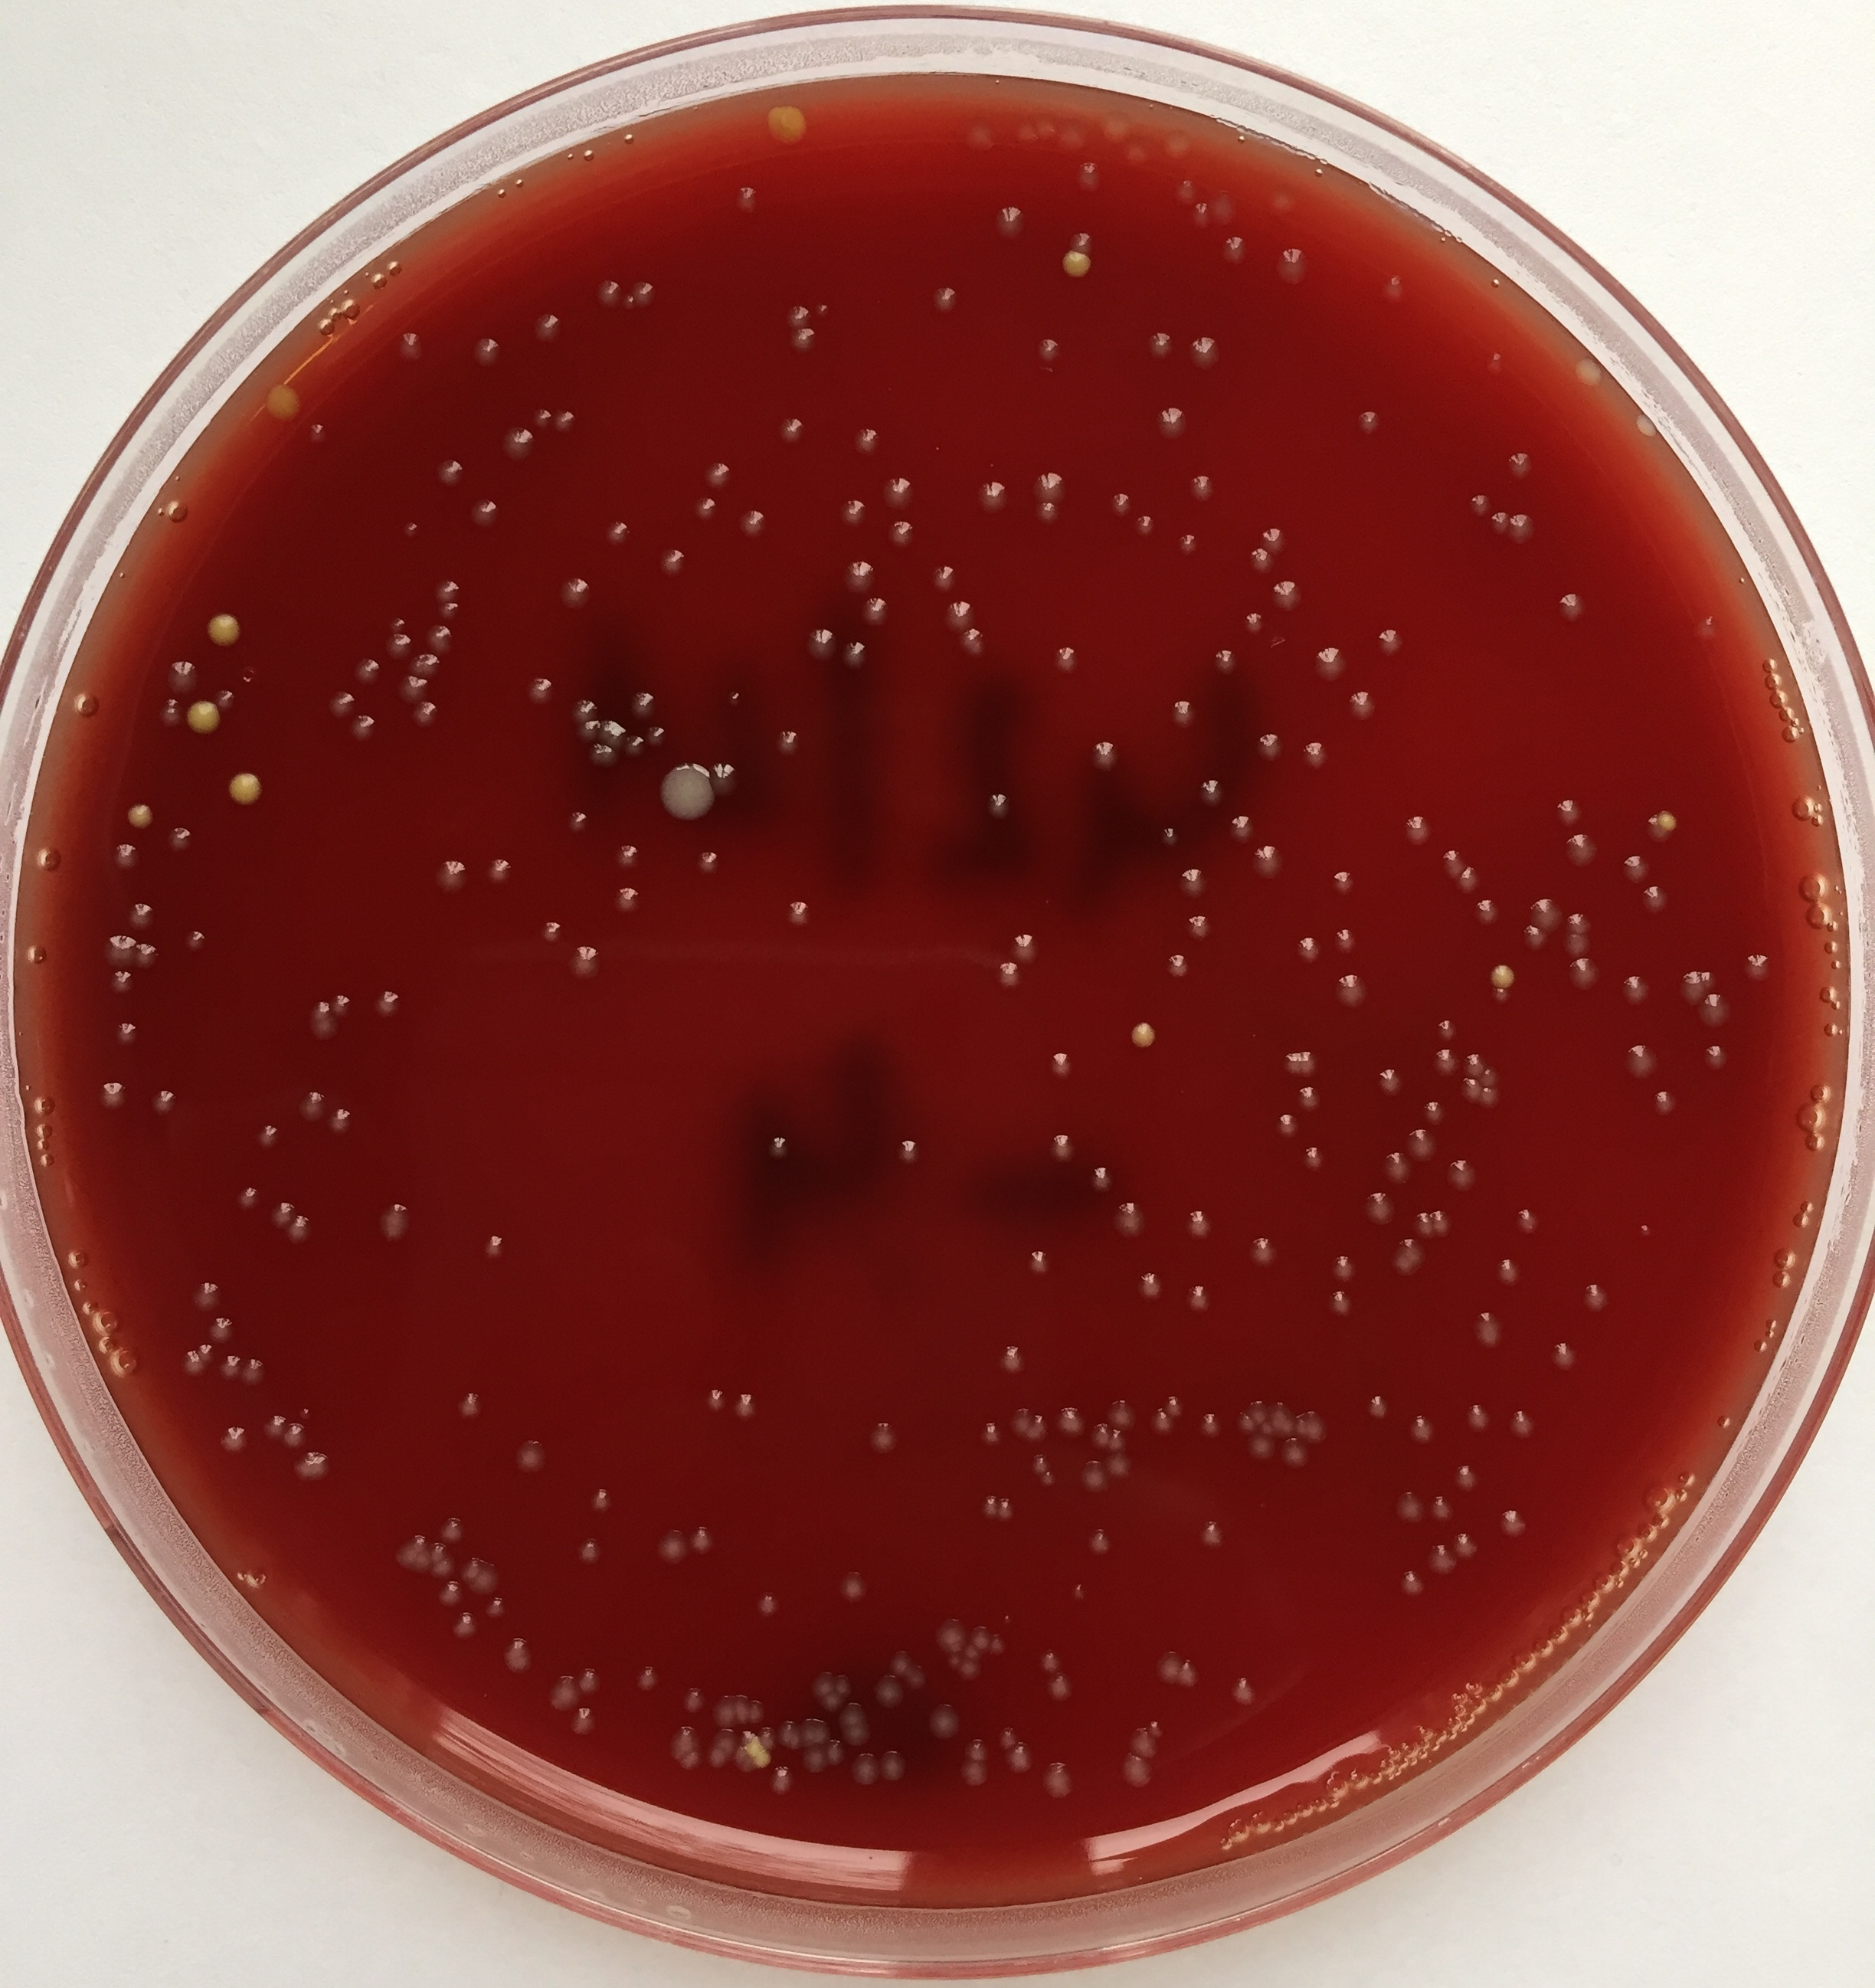sp06: (375, 1191, 416, 1257), (559, 938, 604, 994), (1323, 969, 1375, 1017), (508, 1426, 555, 1475), (1010, 1232, 1059, 1278), (1151, 397, 1195, 446), (768, 716, 812, 763), (983, 1338, 1031, 1382), (839, 634, 879, 686), (557, 793, 597, 844), (1049, 636, 1087, 689), (1251, 835, 1286, 894), (495, 423, 539, 469), (693, 830, 724, 894), (546, 575, 603, 610), (867, 1413, 906, 1465), (1295, 733, 1334, 784), (1008, 1403, 1050, 1449), (664, 1722, 700, 1777), (1108, 1197, 1147, 1246), (293, 1450, 344, 1487), (876, 471, 918, 515), (1366, 622, 1410, 664), (1345, 684, 1387, 728), (989, 197, 1031, 241), (1387, 1235, 1427, 1281), (1041, 1757, 1078, 1806), (844, 419, 886, 462), (1172, 862, 1214, 904), (430, 857, 474, 897), (1551, 587, 1595, 627), (1309, 638, 1350, 682), (1560, 955, 1604, 996), (1241, 1232, 1285, 1272), (652, 545, 698, 583), (1038, 1038, 1077, 1084), (1024, 502, 1077, 536), (1561, 828, 1602, 871), (1464, 1306, 1505, 1348), (1027, 464, 1071, 502), (1269, 575, 1308, 619), (1071, 152, 1110, 196), (1186, 330, 1223, 375), (835, 1701, 872, 1747), (1276, 243, 1309, 293), (1248, 724, 1288, 765), (1179, 902, 1219, 943), (444, 1383, 486, 1422), (1043, 1124, 1082, 1167), (943, 592, 985, 631), (1642, 1087, 1685, 1126), (497, 1636, 536, 1678), (388, 1535, 430, 1574), (809, 1671, 853, 1708), (689, 1510, 721, 1561), (650, 1521, 686, 1567), (927, 1697, 962, 1743), (710, 751, 744, 798), (967, 476, 1008, 515), (1739, 946, 1780, 985), (1526, 888, 1565, 929), (731, 182, 770, 222), (927, 282, 967, 321), (800, 620, 837, 663), (737, 502, 774, 545), (730, 1382, 767, 1424), (1577, 1272, 1614, 1315), (211, 1421, 248, 1463), (881, 516, 925, 552), (760, 1131, 804, 1167), (300, 999, 333, 1045), (1170, 520, 1202, 567), (1163, 686, 1195, 733), (707, 1725, 738, 1773), (1086, 735, 1124, 774), (1619, 1038, 1658, 1077), (1494, 1505, 1533, 1544), (1216, 234, 1255, 273), (527, 310, 566, 349), (1355, 1188, 1396, 1225), (1084, 1523, 1119, 1565), (774, 412, 811, 451), (93, 1077, 132, 1114), (1695, 989, 1734, 1026), (1130, 1267, 1167, 1306), (467, 333, 506, 370), (960, 116, 997, 155), (467, 497, 508, 532), (164, 657, 199, 698), (1329, 918, 1364, 959), (1182, 1205, 1218, 1246), (1441, 1154, 1477, 1195), (1264, 187, 1299, 227), (834, 1567, 869, 1607), (874, 1669, 909, 1710), (465, 1554, 500, 1595), (285, 1209, 315, 1257), (580, 1479, 627, 1509), (1396, 807, 1429, 849), (1545, 791, 1588, 825), (1373, 1063, 1406, 1105), (1142, 328, 1175, 370), (1618, 968, 1649, 1012), (1161, 129, 1198, 166), (370, 980, 405, 1019), (478, 1225, 513, 1264), (1205, 642, 1244, 677), (834, 495, 867, 536), (1394, 1484, 1427, 1524), (428, 455, 471, 486), (1276, 1049, 1320, 1079), (1545, 1338, 1582, 1373), (1031, 335, 1066, 372), (1052, 1405, 1089, 1440), (980, 791, 1019, 825), (1512, 1200, 1545, 1239), (1227, 1671, 1260, 1710), (1505, 446, 1538, 485), (1292, 927, 1320, 973), (879, 1748, 908, 1794), (1424, 1539, 1454, 1581), (1064, 227, 1107, 257), (136, 936, 164, 980), (1191, 770, 1227, 805), (1117, 1754, 1152, 1789), (345, 714, 381, 749), (856, 594, 893, 627), (839, 557, 876, 590), (1227, 807, 1260, 844), (930, 1614, 964, 1651), (1237, 601, 1269, 640), (1045, 1671, 1077, 1710), (569, 1706, 601, 1745), (190, 1272, 222, 1311), (615, 881, 645, 922), (148, 1080, 178, 1121), (1013, 922, 1043, 962), (545, 1674, 585, 1704), (330, 1096, 358, 1139), (1378, 268, 1406, 310), (395, 513, 428, 548), (107, 835, 143, 869), (106, 971, 139, 1006), (102, 929, 136, 964), (291, 1084, 324, 1119), (959, 622, 992, 657), (927, 555, 960, 590), (1438, 839, 1471, 874), (1493, 1255, 1526, 1290), (1403, 1128, 1436, 1163), (1641, 883, 1672, 920), (1699, 1038, 1730, 1075), (1149, 1648, 1181, 1685), (1158, 950, 1197, 980), (1212, 185, 1242, 224), (157, 696, 185, 737), (1482, 342, 1510, 382), (782, 897, 816, 931), (481, 855, 515, 888), (1621, 849, 1655, 883), (1516, 922, 1549, 955), (1278, 1440, 1311, 1473), (1295, 1408, 1329, 1442), (395, 330, 428, 363), (691, 490, 723, 525), (227, 1179, 259, 1214), (573, 1539, 608, 1570), (1149, 818, 1184, 849), (1420, 1096, 1452, 1131), (1452, 1458, 1482, 1495), (756, 1581, 786, 1618), (1006, 1741, 1036, 1778), (849, 1748, 879, 1785), (523, 679, 562, 707), (1126, 511, 1165, 539), (1301, 1140, 1329, 1179), (1452, 1524, 1479, 1565), (164, 821, 196, 855), (176, 924, 210, 955), (252, 1114, 284, 1147), (1323, 1285, 1355, 1318), (1184, 1281, 1216, 1315), (1507, 1408, 1540, 1440), (1408, 1412, 1441, 1443), (1103, 1396, 1137, 1428), (1690, 608, 1723, 640), (701, 460, 737, 490), (125, 897, 155, 932), (886, 1131, 922, 1161), (1470, 897, 1500, 932), (1382, 1149, 1412, 1184), (1510, 511, 1540, 546), (1101, 109, 1131, 145), (627, 687, 663, 717), (449, 1609, 479, 1644), (428, 622, 458, 657), (1427, 1049, 1456, 1086), (784, 328, 821, 356), (990, 957, 1024, 987), (1353, 400, 1383, 434), (1260, 518, 1290, 552), (1325, 1251, 1359, 1281), (1198, 1517, 1228, 1551), (430, 575, 463, 605), (409, 650, 442, 680), (411, 703, 444, 733), (1271, 1396, 1295, 1436), (243, 1354, 268, 1394), (957, 1762, 992, 1791), (802, 1713, 830, 1748), (351, 654, 379, 689), (601, 515, 633, 545), (111, 1019, 141, 1050), (1330, 869, 1362, 899), (1561, 929, 1593, 959), (1466, 1401, 1496, 1433), (1123, 141, 1152, 173), (301, 416, 330, 449), (1431, 1012, 1459, 1045), (1396, 1563, 1424, 1597), (645, 721, 673, 754), (633, 1662, 661, 1695), (270, 1190, 296, 1225), (1672, 968, 1699, 1003), (978, 1415, 1004, 1450), (210, 1313, 236, 1348), (530, 393, 555, 430), (596, 277, 620, 314), (578, 1660, 603, 1697), (1269, 1109, 1299, 1139), (1107, 1458, 1137, 1487), (324, 689, 354, 719), (1295, 1086, 1327, 1114), (1427, 1495, 1459, 1523), (259, 1410, 287, 1442), (398, 675, 430, 703), (559, 400, 582, 439), (537, 916, 564, 950), (1128, 1725, 1154, 1759), (1574, 354, 1600, 388), (485, 1590, 511, 1623), (1561, 909, 1597, 934), (583, 746, 619, 770), (1080, 1459, 1105, 1495), (615, 842, 645, 871), (1186, 471, 1216, 499), (1459, 867, 1487, 897), (1087, 1161, 1114, 1193), (1366, 1391, 1392, 1422), (768, 1766, 795, 1798), (441, 1512, 467, 1544), (217, 1352, 243, 1383), (328, 980, 349, 1019), (1433, 1204, 1456, 1239), (633, 275, 656, 310), (211, 686, 240, 714), (1101, 488, 1131, 515), (1246, 545, 1272, 575), (1632, 411, 1658, 441), (782, 300, 812, 326), (678, 1683, 705, 1713), (439, 1577, 465, 1607), (1193, 197, 1214, 234), (430, 1558, 462, 1583), (569, 698, 603, 721), (1463, 1049, 1489, 1077), (1246, 1440, 1272, 1468), (885, 1648, 913, 1674), (906, 1665, 932, 1694), (282, 1422, 308, 1450), (384, 634, 411, 663), (1487, 506, 1512, 536), (1015, 120, 1040, 150), (1459, 1077, 1480, 1110), (1468, 488, 1489, 522), (997, 1496, 1019, 1530), (1172, 178, 1197, 206), (703, 1382, 726, 1412), (1202, 1410, 1225, 1440), (1040, 1644, 1063, 1674), (774, 1718, 797, 1748), (823, 1741, 846, 1771), (971, 1623, 992, 1655), (434, 601, 465, 622), (601, 717, 627, 742), (1149, 1406, 1172, 1435), (996, 1724, 1019, 1752), (1480, 1086, 1501, 1116), (1181, 1658, 1202, 1688), (1040, 113, 1061, 143), (1248, 1396, 1267, 1428), (626, 730, 645, 761), (735, 1687, 751, 1725), (576, 717, 599, 744), (619, 291, 638, 321), (966, 1736, 990, 1759), (1089, 1419, 1107, 1450), (990, 1634, 1012, 1660), (802, 1750, 823, 1777), (715, 1692, 733, 1724), (294, 1403, 322, 1422), (182, 1348, 201, 1376), (1413, 1209, 1431, 1239), (978, 1491, 996, 1521), (721, 687, 744, 710), (1107, 1431, 1131, 1452), (1068, 1581, 1093, 1602), (1165, 1391, 1184, 1417), (1029, 1450, 1049, 1477), (751, 1695, 768, 1724), (1486, 985, 1510, 1005), (816, 301, 837, 323), (1699, 968, 1718, 990), (1232, 1410, 1251, 1433), (1644, 814, 1662, 839), (957, 1660, 978, 1680), (758, 1724, 774, 1748), (197, 1339, 213, 1364), (386, 615, 405, 634), (1043, 1472, 1061, 1493), (997, 1607, 1017, 1625), (1149, 1715, 1165, 1736), (946, 1653, 964, 1671), (1480, 1070, 1500, 1086), (1635, 1225, 1655, 1239)
